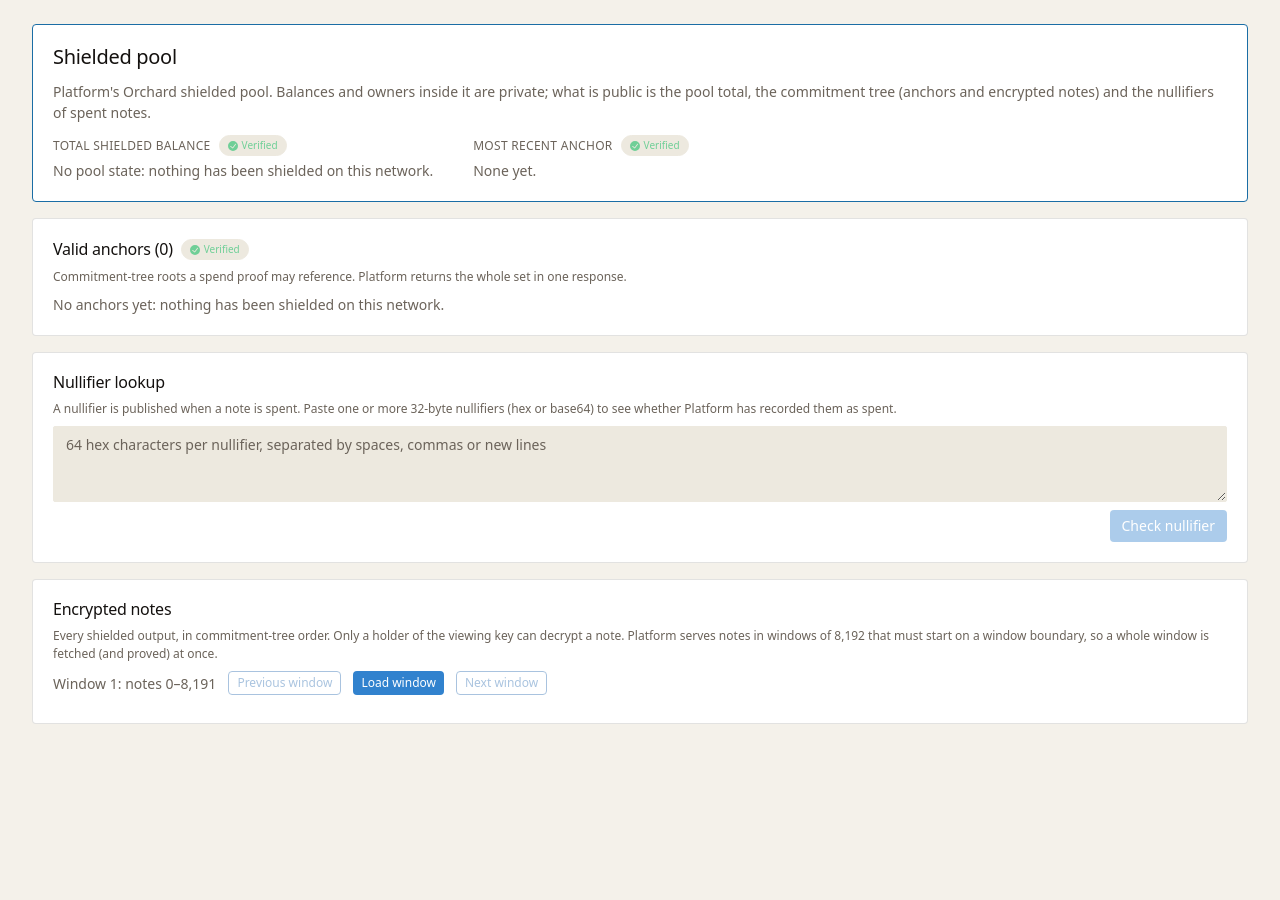
Test: ShieldedPoolView › renders honest empty states for a network with nothing shielded
Check: the text "No pool state: nothing has been shielded on this network." is shown, box [53,160,433,181]
Check: the text "No anchors yet: nothing has been shielded on this network." is shown, box [53,295,444,314]
Click the button "Load window": (399, 683) [353,671,444,695]
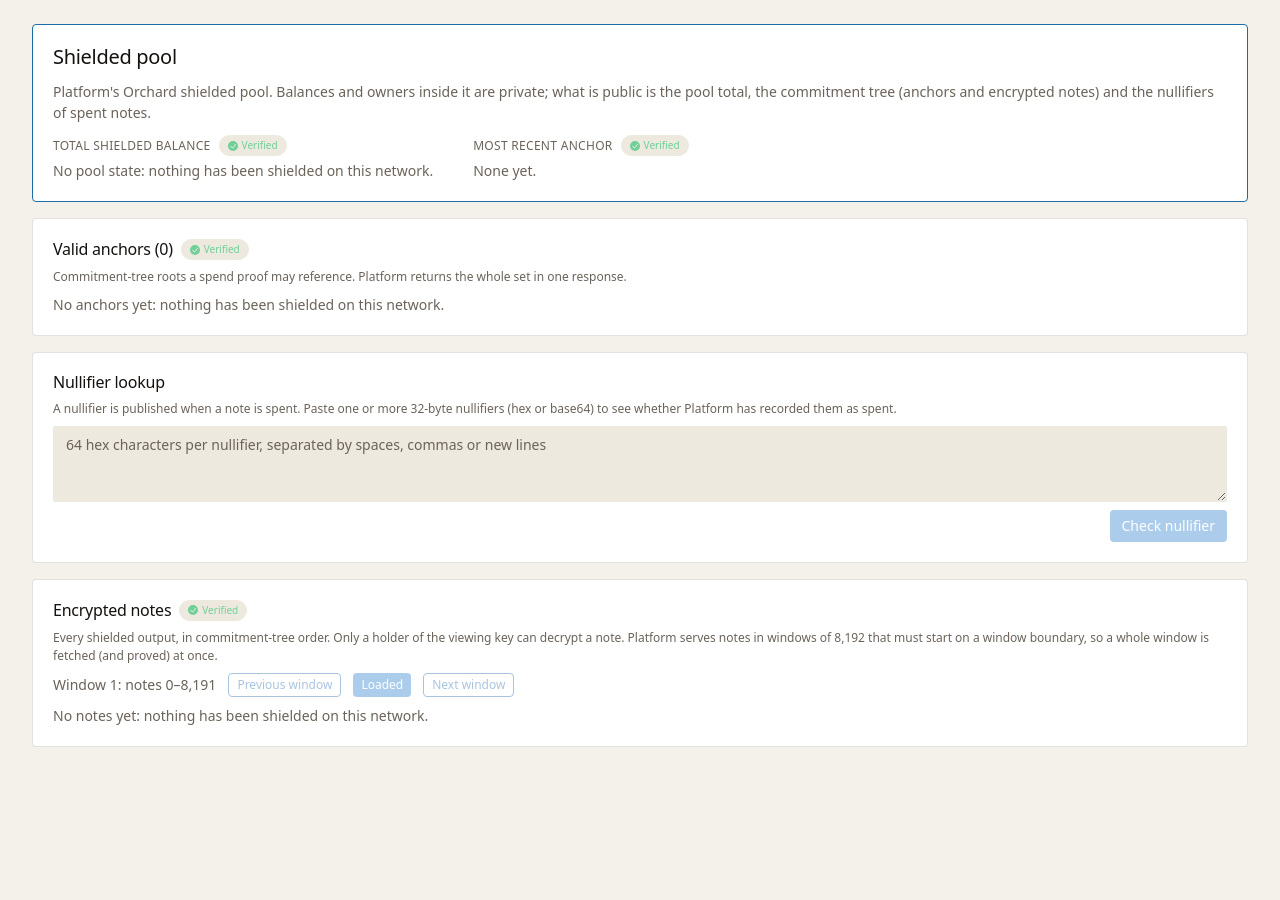
Check: the text "No notes yet: nothing has been shielded on this network." is shown, box [53,706,428,725]
